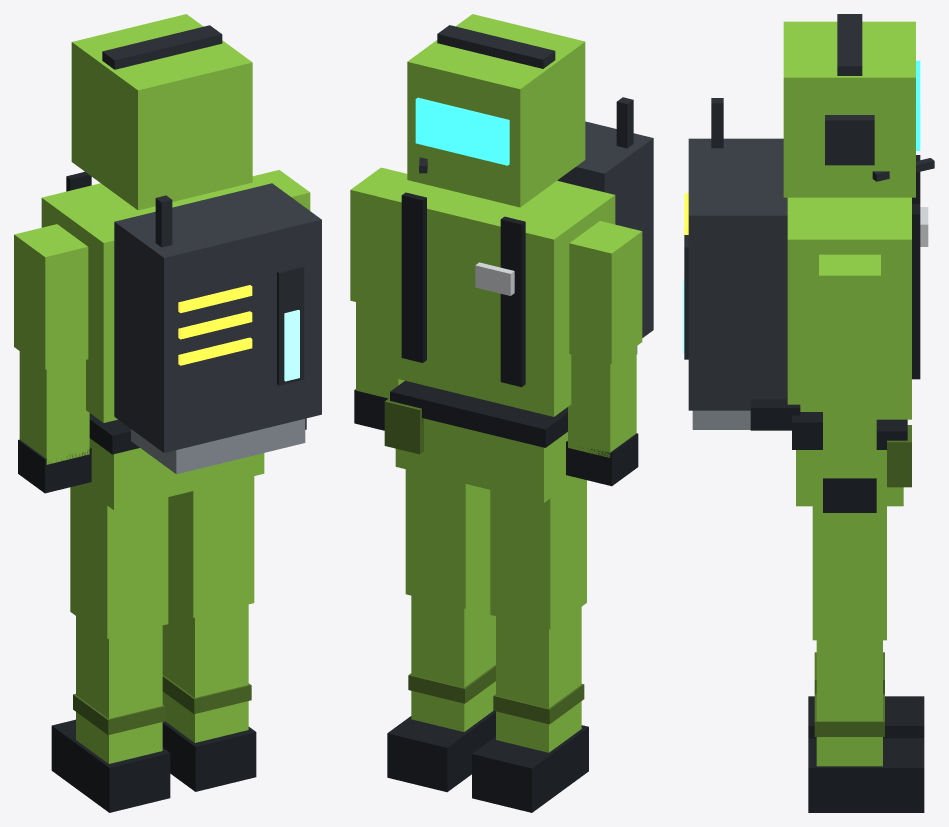
Rendered from ion_rig_lime.glb.
3 renders of one model, left to right at view 1: azimuth 30°, elevation 25°; view 2: azimuth 150°, elevation 25°; view 3: azimuth 270°, elevation 25°, orthographic.
Parts seen in each view (by area): view 1: Merged4, Merged, Merged5, Merged6, _MeshInstance3D_2996, _MeshInstance3D_3007, _MeshInstance3D_2991, Merged2, Merged7, _MeshInstance3D_3002; view 2: Merged4, Merged, Merged5, Merged6, Merged7, _MeshInstance3D_2996, _MeshInstance3D_3007, _MeshInstance3D_2991, Merged2, _MeshInstance3D_3002, Merged3; view 3: Merged4, Merged, Merged6, _MeshInstance3D_3007, _MeshInstance3D_3002, Merged3, Merged7, Merged5.
Part boxes in pixels (x1=…): Merged4: x1=41, y1=172, x2=321, y2=474; Merged: x1=71, y1=14, x2=252, y2=210; Merged5: x1=51, y1=616, x2=170, y2=812; Merged6: x1=162, y1=600, x2=256, y2=791; _MeshInstance3D_2996: x1=70, y1=485, x2=168, y2=638; _MeshInstance3D_3007: x1=168, y1=476, x2=254, y2=617; _MeshInstance3D_2991: x1=14, y1=224, x2=88, y2=369; Merged2: x1=18, y1=351, x2=91, y2=493; Merged7: x1=79, y1=413, x2=264, y2=510; _MeshInstance3D_3002: x1=252, y1=170, x2=310, y2=210; Merged4: x1=377, y1=97, x2=653, y2=416; Merged: x1=407, y1=14, x2=585, y2=207; Merged5: x1=472, y1=607, x2=588, y2=812; Merged6: x1=387, y1=591, x2=495, y2=792; Merged7: x1=384, y1=380, x2=577, y2=502; _MeshInstance3D_2996: x1=490, y1=478, x2=586, y2=629; _MeshInstance3D_3007: x1=405, y1=469, x2=490, y2=608; _MeshInstance3D_2991: x1=569, y1=221, x2=642, y2=364; Merged2: x1=566, y1=346, x2=638, y2=486; _MeshInstance3D_3002: x1=350, y1=167, x2=407, y2=307; Merged3: x1=354, y1=302, x2=404, y2=430; Merged4: x1=682, y1=98, x2=928, y2=444; Merged: x1=783, y1=14, x2=934, y2=197; Merged6: x1=808, y1=640, x2=924, y2=812; _MeshInstance3D_3007: x1=812, y1=506, x2=886, y2=640; _MeshInstance3D_3002: x1=819, y1=254, x2=880, y2=387; Merged3: x1=823, y1=388, x2=876, y2=512; Merged7: x1=792, y1=419, x2=911, y2=506; Merged5: x1=808, y1=652, x2=924, y2=738.
Bounding box in the file's own units: 0.74 × 1.97 × 0.61.
